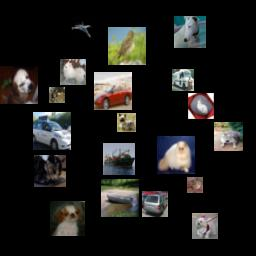airplane: (71, 17, 93, 39)
automobile: (94, 72, 132, 110), (33, 112, 71, 150), (142, 191, 168, 217)
bird: (108, 27, 146, 65), (187, 177, 203, 193)
cat: (157, 136, 195, 174), (34, 155, 66, 187), (214, 122, 243, 151), (188, 93, 214, 119)
dog: (0, 66, 38, 104), (50, 201, 85, 236), (174, 16, 206, 48), (60, 59, 86, 85), (192, 213, 218, 239), (117, 113, 136, 132), (49, 87, 65, 103)
ship: (101, 179, 139, 217), (103, 143, 135, 175)
truck: (172, 69, 194, 91)
